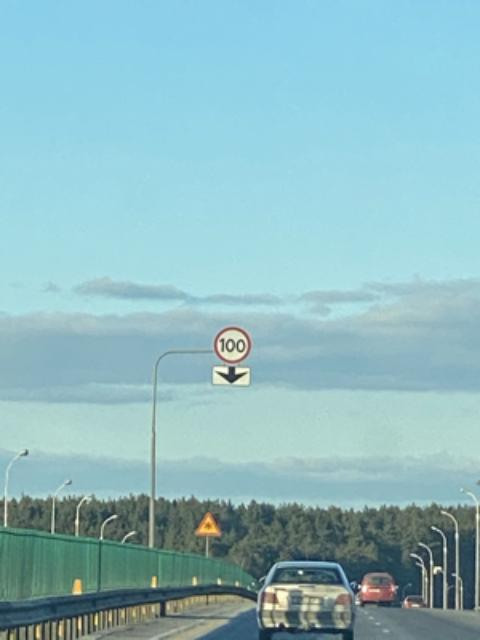limit100: (214, 324, 255, 366)
